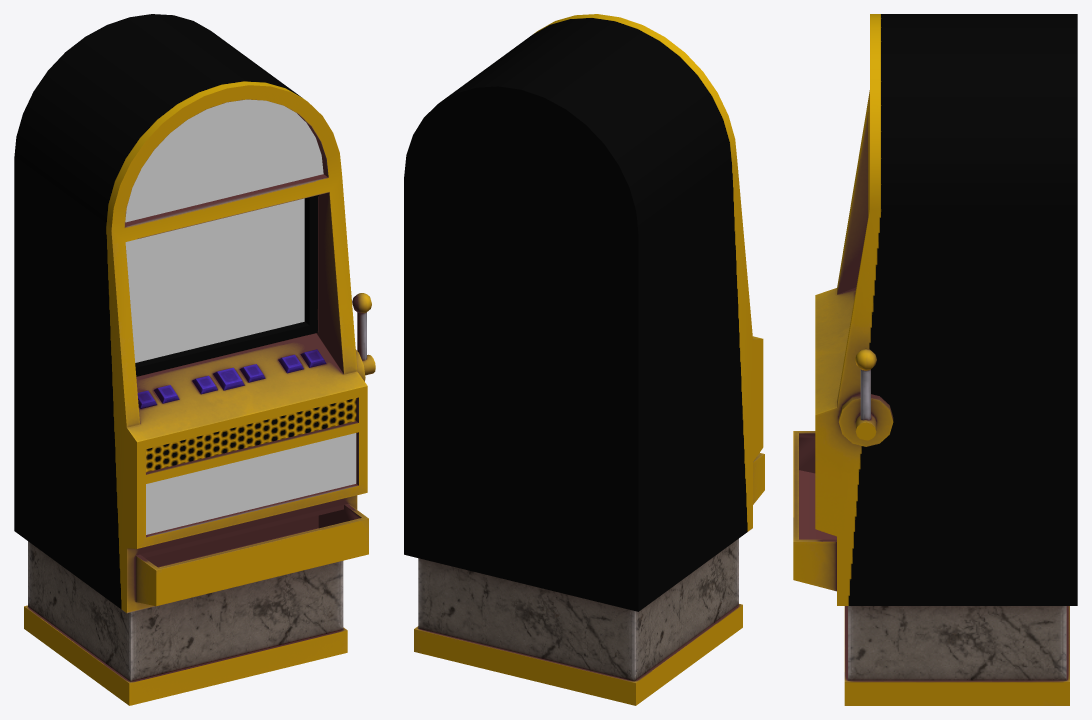
File: SLOTMACHINE1.FBX
3 renders of one model, left to right at view 1: azimuth 30°, elevation 25°; view 2: azimuth 150°, elevation 25°; view 3: azimuth 270°, elevation 25°, orthographic. The views are drawn at different scales.
Parts seen in each view (by area): view 1: SLOTMACHINE1; view 2: SLOTMACHINE1; view 3: SLOTMACHINE1.
Part boxes in pixels (bbox=[...]): SLOTMACHINE1: bbox=[14, 14, 375, 705]; SLOTMACHINE1: bbox=[404, 14, 764, 705]; SLOTMACHINE1: bbox=[793, 14, 1077, 705].
Size of the model in its own units: 162 by 350 by 145.
2 materials, 1 textured.
